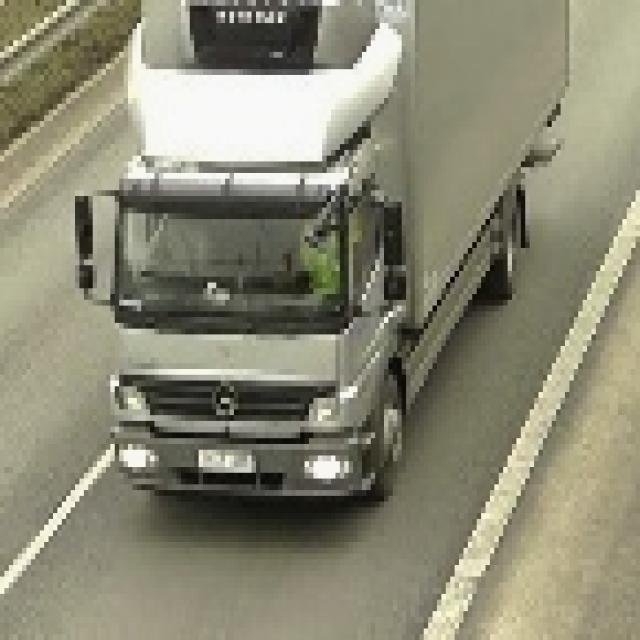truck: (76, 1, 566, 503)
